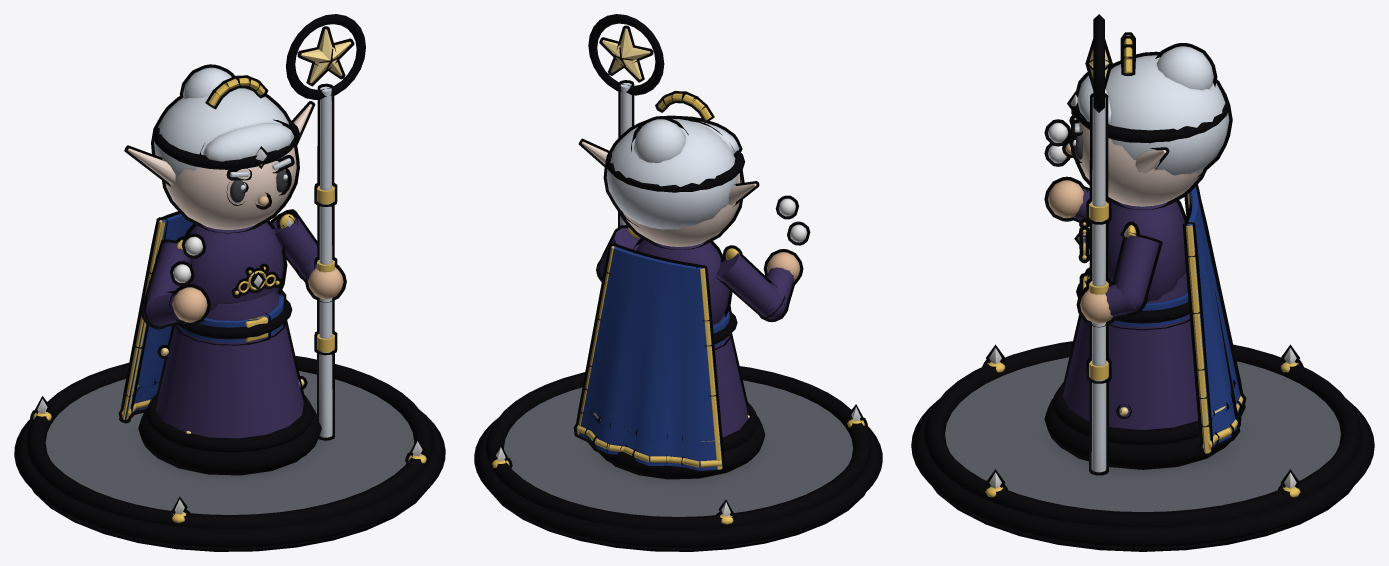
File: star_speaker_s4.fbx
3 renders of one model, left to right at view 1: azimuth 30°, elevation 25°; view 2: azimuth 150°, elevation 25°; view 3: azimuth 270°, elevation 25°, orthographic. The views are drawn at different scales.
Parts seen in each view (by area): view 1: star_speaker_s4; view 2: star_speaker_s4; view 3: star_speaker_s4.
Part boxes in pixels (<box>): star_speaker_s4: <box>14,14,445,551</box>; star_speaker_s4: <box>474,14,882,551</box>; star_speaker_s4: <box>911,14,1374,551</box>.
Size of the model in its own units: 1.58 by 1.81 by 1.58.
2 materials, 1 textured.
